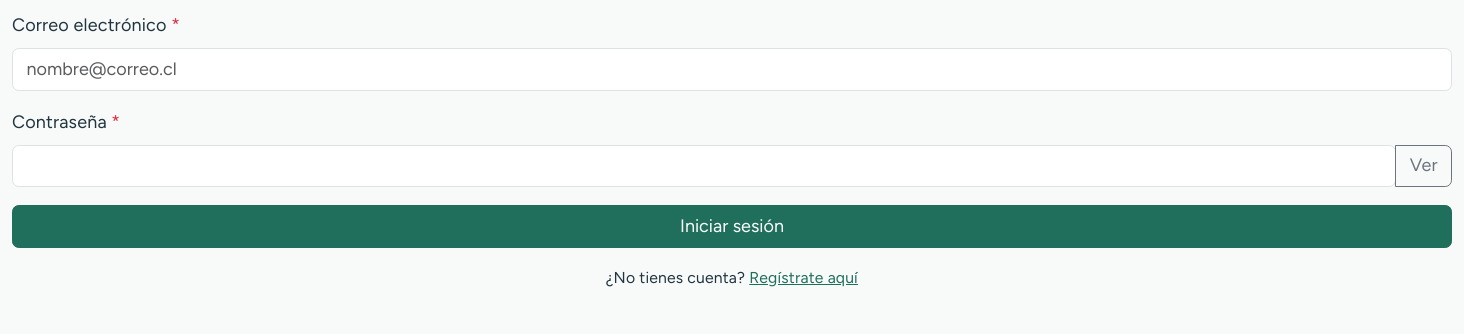
Test: LoginForm › sugiere corregir el dominio del correo y lo aplica con un clic
The width and height of the screenshot is (1464, 334).
Type "camila@gmial.com" into the field labelled "Correo electrónico*" at (732, 69), box [12, 48, 1452, 90]
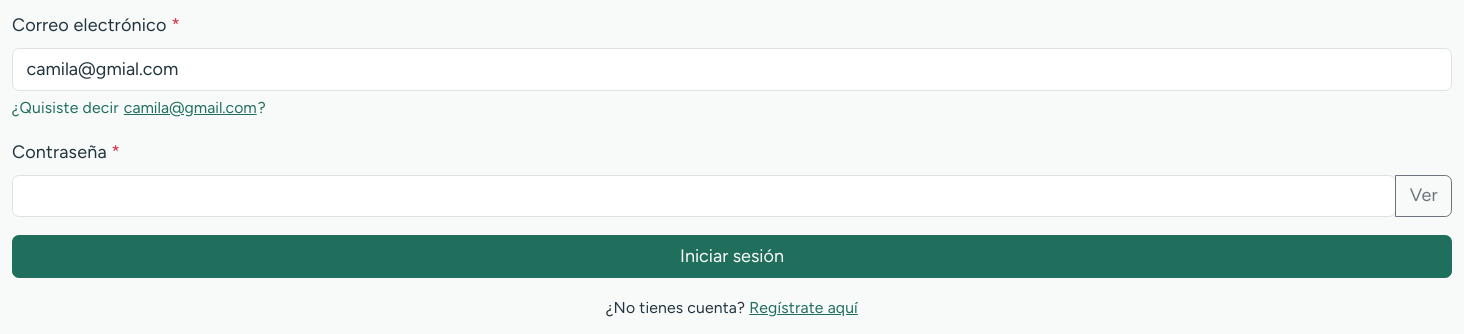
Click the button "camila@gmail.com" at (190, 108), box [123, 95, 258, 121]
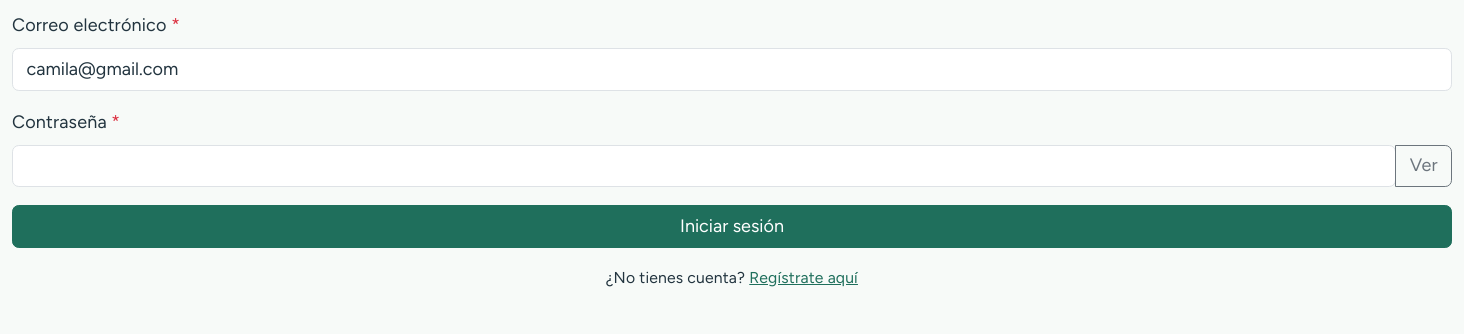
Expected: the field labelled "Correo electrónico*" holds "camila@gmail.com", [12, 48, 1452, 90]
